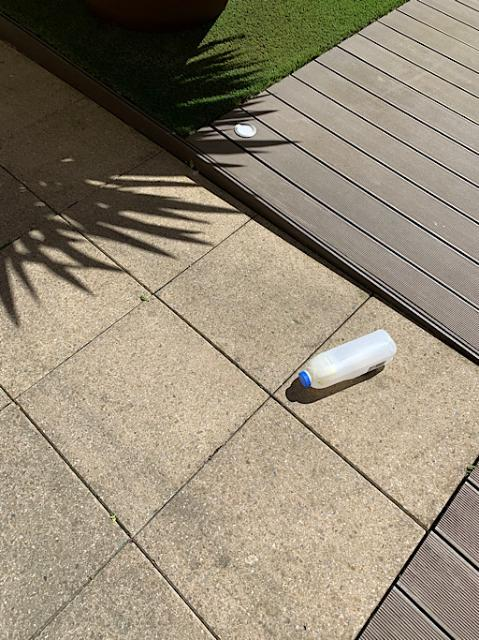plastic: (298, 328, 395, 387)
